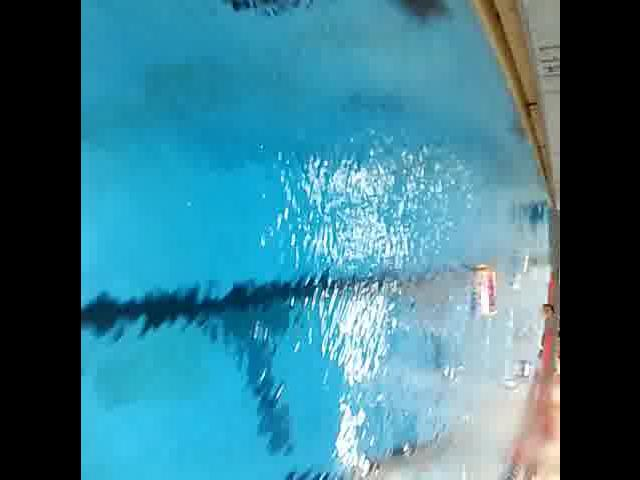Can: (464, 262, 512, 326), (508, 360, 538, 381)
